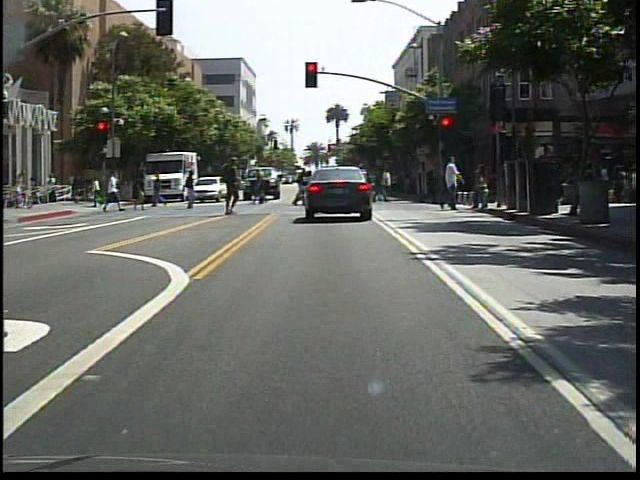person: (436, 154, 469, 213), (219, 156, 247, 223), (348, 165, 371, 218), (102, 170, 125, 214), (181, 168, 203, 213), (149, 170, 168, 211), (253, 169, 270, 207), (133, 171, 147, 216)
